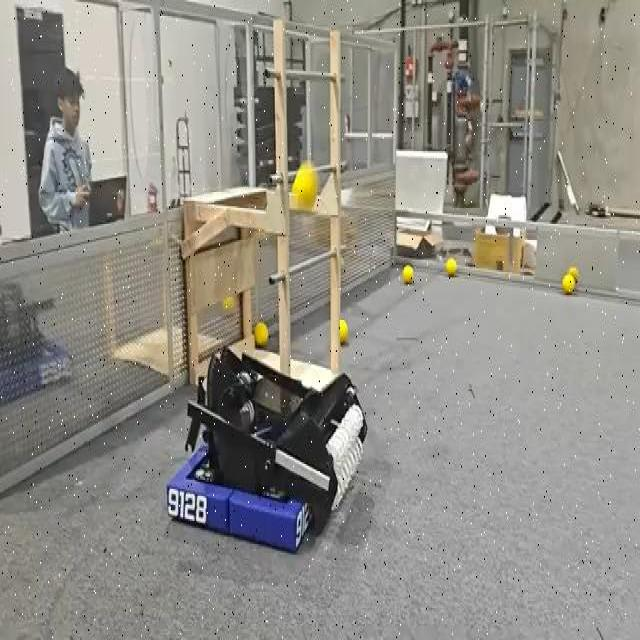Fuel: (292, 162, 318, 209), (292, 162, 317, 208), (254, 322, 268, 346), (562, 272, 575, 293), (339, 319, 349, 344), (339, 320, 348, 343), (402, 265, 413, 283), (445, 258, 456, 276), (568, 265, 578, 283), (223, 295, 234, 311), (222, 297, 234, 311)
